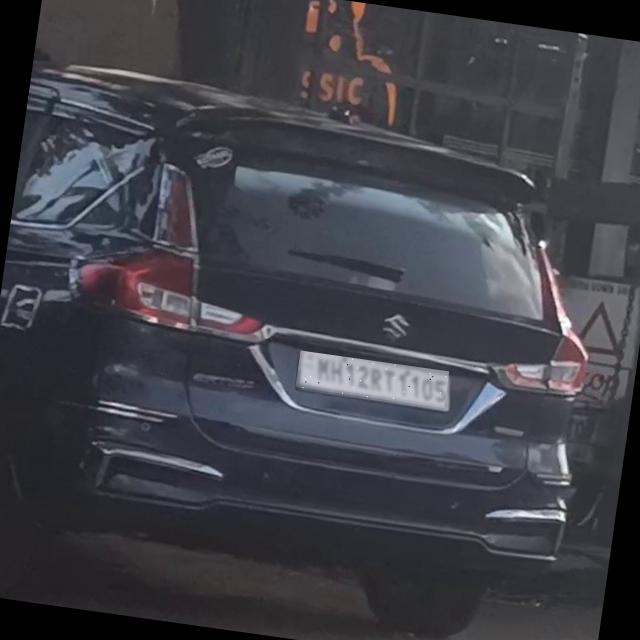Plate: (296, 352, 450, 411)
